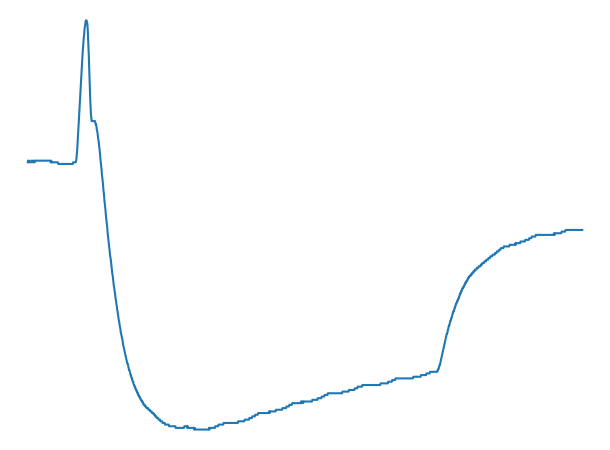increase: (427, 360, 446, 380), (70, 151, 80, 169)
